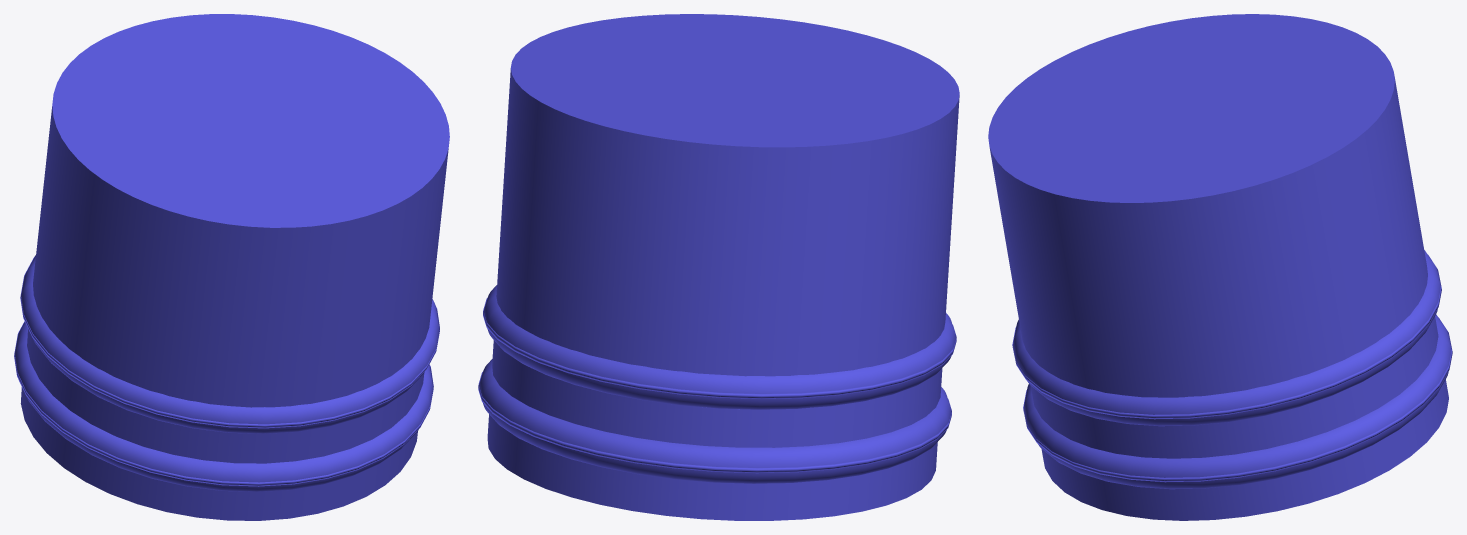
File: bombilla209.obj
3 renders of one model, left to right at view 1: azimuth 30°, elevation 25°; view 2: azimuth 150°, elevation 25°; view 3: azimuth 270°, elevation 25°, orthographic. The views are drawn at different scales.
Parts seen in each view (by area): view 1: Cylinder001, Cylinder004, Cylinder002, Cylinder003, Cylinder006; view 2: Cylinder001, Cylinder004, Cylinder003, Cylinder006, Cylinder002; view 3: Cylinder001, Cylinder004, Cylinder003, Cylinder002, Cylinder006.
Part boxes in pixels (x1,y1,x2,y2): Cylinder001: [33, 14, 449, 407]; Cylinder004: [14, 321, 433, 491]; Cylinder002: [20, 255, 439, 433]; Cylinder003: [27, 329, 424, 463]; Cylinder006: [20, 387, 417, 520]; Cylinder001: [496, 14, 959, 376]; Cylinder004: [478, 359, 951, 483]; Cylinder003: [492, 340, 942, 447]; Cylinder006: [487, 414, 937, 520]; Cylinder002: [483, 285, 956, 409]; Cylinder001: [988, 14, 1427, 397]; Cylinder004: [1023, 314, 1452, 489]; Cylinder003: [1031, 317, 1438, 458]; Cylinder002: [1012, 250, 1441, 426]; Cylinder006: [1041, 379, 1448, 520].
Bounding box in the file's own units: 72.45 × 69.31 × 77.3.
